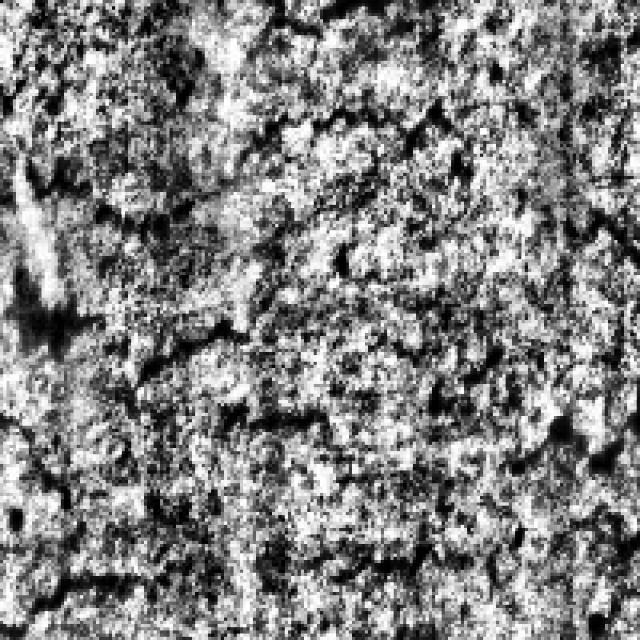Pitted_Surface: (3, 96, 560, 352), (112, 314, 550, 524)
